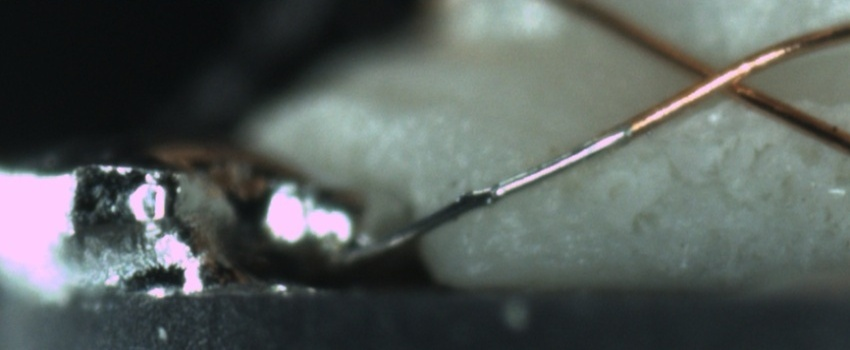CL: (666, 42, 767, 108)
TS: (413, 124, 634, 234)
TTCW: (351, 94, 659, 261)
